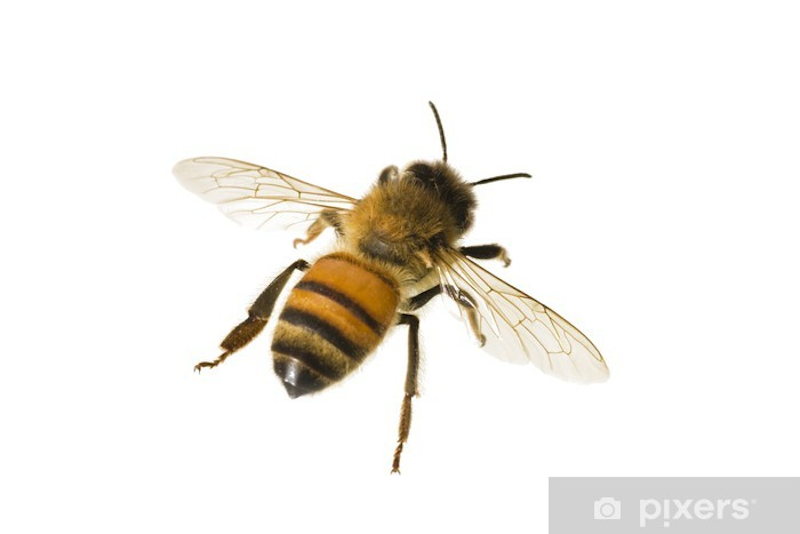abeja: (158, 96, 610, 473)
